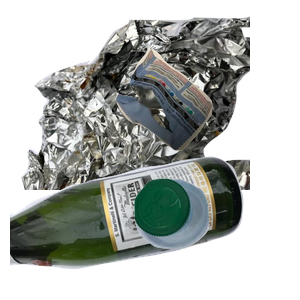glass: (10, 154, 246, 300)
metal: (19, 14, 259, 194)
plastic: (132, 176, 300, 300)
trash: (113, 46, 300, 189)
